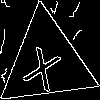X: (21, 37, 67, 93)
